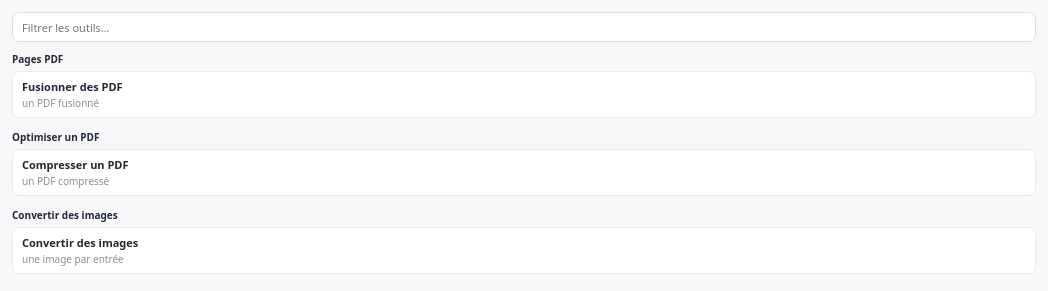
Scenario: panneaux de l’atelier › filtre les outils par recherche
Expected: the text "Fusionner des PDF" is shown, x1=22 y1=79 x2=123 y2=94
Type "compress" into the field with placeholder "Filtrer les outils…" at (524,27), box x1=12 y1=12 x2=1036 y2=42
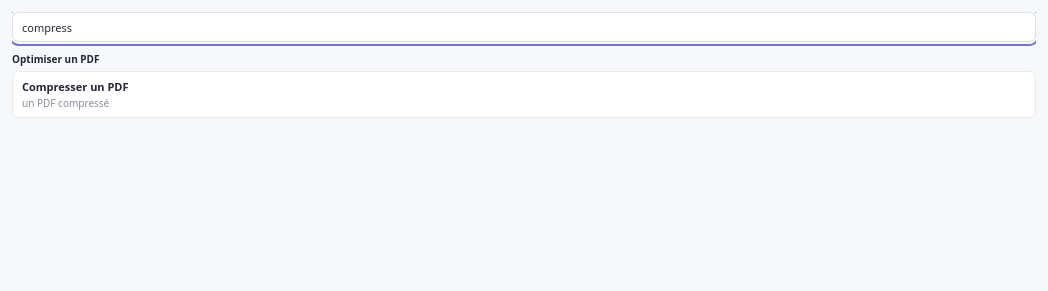
Expected: the text "Compresser un PDF" is shown, x1=22 y1=79 x2=128 y2=94
Expected: the button "Fusionner des PDF" is gone
